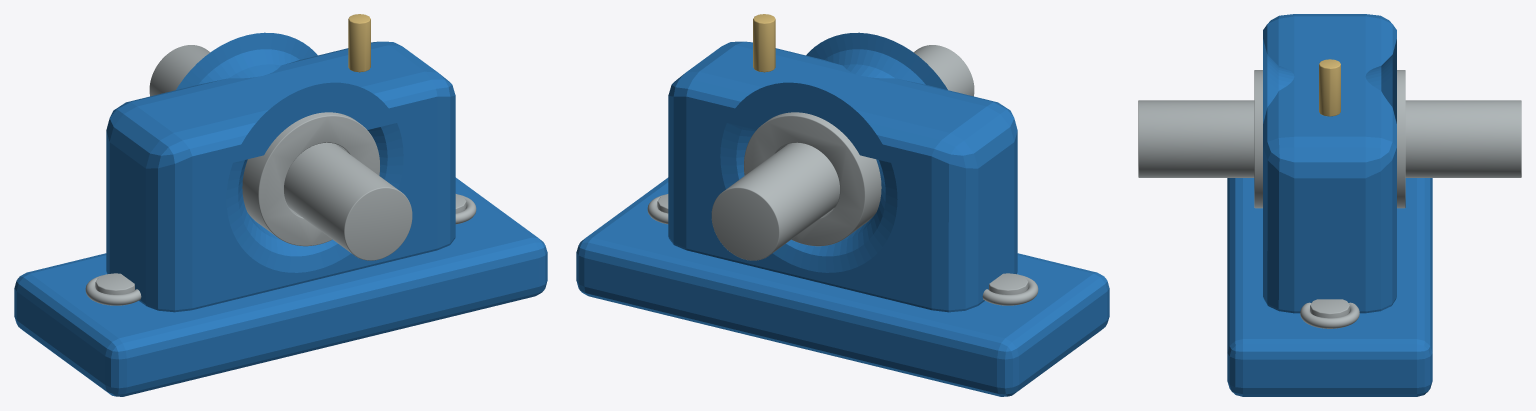
File: pillow_block_bearing.glb
The picture shows the model from 3 angles, left to right: view 1: azimuth 30°, elevation 25°; view 2: azimuth 150°, elevation 25°; view 3: azimuth 270°, elevation 25°; orthographic projection.
Visible parts, largest first — view 1: CAST_HOUSING, BASE, SHAFT, KIN_INNER_RACE, GREASE_ZERK, ANCHOR_WASHER_-0.42, ANCHOR_-0.42; view 2: CAST_HOUSING, BASE, SHAFT, KIN_INNER_RACE, GREASE_ZERK, ANCHOR_WASHER_-0.42, ANCHOR_-0.42; view 3: CAST_HOUSING, BASE, SHAFT, KIN_INNER_RACE, GREASE_ZERK, ANCHOR_WASHER_0.42, ANCHOR_0.42.
Part boxes in pixels (x1=…): CAST_HOUSING: x1=106, y1=32, x2=455, y2=312; BASE: x1=14, y1=177, x2=547, y2=396; SHAFT: x1=149, y1=45, x2=412, y2=260; KIN_INNER_RACE: x1=242, y1=112, x2=379, y2=246; GREASE_ZERK: x1=348, y1=14, x2=370, y2=72; ANCHOR_WASHER_-0.42: x1=85, y1=275, x2=141, y2=305; ANCHOR_-0.42: x1=95, y1=273, x2=134, y2=294; CAST_HOUSING: x1=668, y1=32, x2=1017, y2=312; BASE: x1=576, y1=177, x2=1109, y2=396; SHAFT: x1=711, y1=45, x2=974, y2=260; KIN_INNER_RACE: x1=744, y1=112, x2=881, y2=246; GREASE_ZERK: x1=753, y1=14, x2=775, y2=72; ANCHOR_WASHER_-0.42: x1=982, y1=275, x2=1038, y2=305; ANCHOR_-0.42: x1=989, y1=273, x2=1028, y2=294; CAST_HOUSING: x1=1263, y1=14, x2=1396, y2=313; BASE: x1=1227, y1=178, x2=1432, y2=396; SHAFT: x1=1138, y1=100, x2=1521, y2=177; KIN_INNER_RACE: x1=1254, y1=70, x2=1405, y2=208; GREASE_ZERK: x1=1319, y1=59, x2=1340, y2=116; ANCHOR_WASHER_0.42: x1=1300, y1=302, x2=1359, y2=328; ANCHOR_0.42: x1=1310, y1=299, x2=1349, y2=318.
Bounding box in the file's own units: 1.12 × 0.67 × 0.86.
